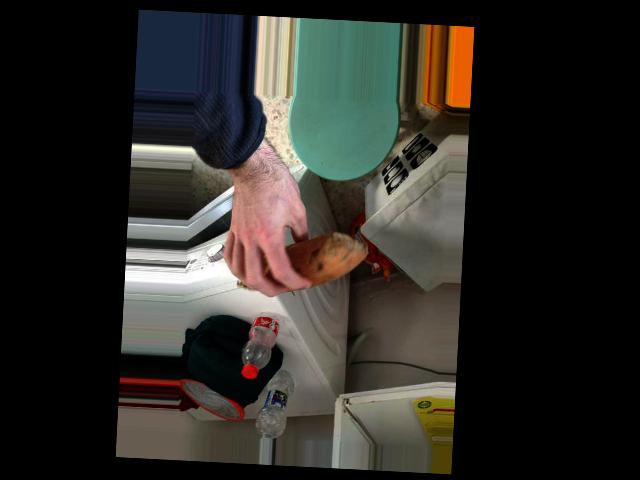sweet_potato: (229, 232, 364, 298)
